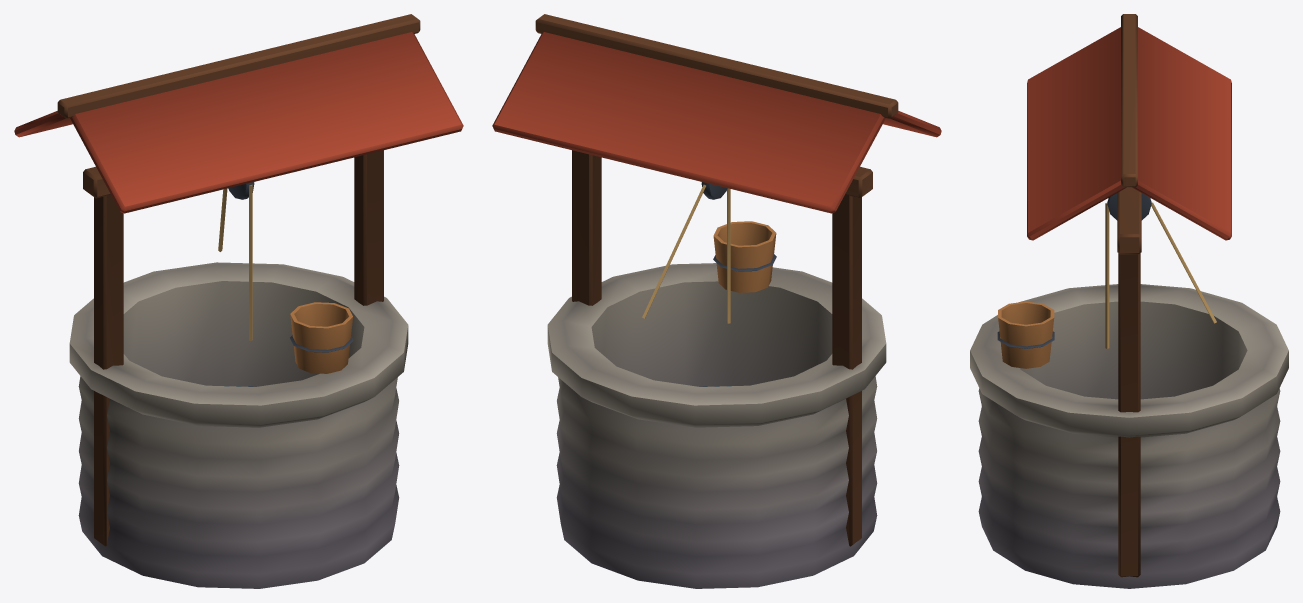
File: well.glb
3 views of the same model, side by side, from view 1: azimuth 30°, elevation 25°; view 2: azimuth 150°, elevation 25°; view 3: azimuth 270°, elevation 25° (orthographic). The views are drawn at different scales.
Parts seen in each view (by area): view 1: Well Stone, Well Roof, Well Dark wood, Well Wood, Well Rope; view 2: Well Stone, Well Roof, Well Dark wood, Well Wood, Well Rope; view 3: Well Stone, Well Roof, Well Dark wood, Well Wood, Well Rope, Well Iron.
Part boxes in pixels (x1,y1,x2,y2): Well Stone: (69, 262, 408, 588); Well Roof: (14, 32, 463, 213); Well Dark wood: (57, 14, 420, 546); Well Wood: (290, 302, 352, 373); Well Rope: (218, 184, 252, 340); Well Stone: (547, 263, 886, 588); Well Roof: (492, 32, 941, 213); Well Dark wood: (535, 14, 898, 546); Well Wood: (713, 221, 776, 292); Well Rope: (642, 184, 730, 323); Well Stone: (970, 284, 1288, 588); Well Roof: (1027, 27, 1231, 240); Well Dark wood: (1117, 14, 1141, 577); Well Wood: (998, 301, 1054, 368); Well Rope: (1105, 202, 1216, 348); Well Iron: (997, 193, 1151, 348).
Size of the model in its own units: 1.56 by 1.94 by 1.3.
